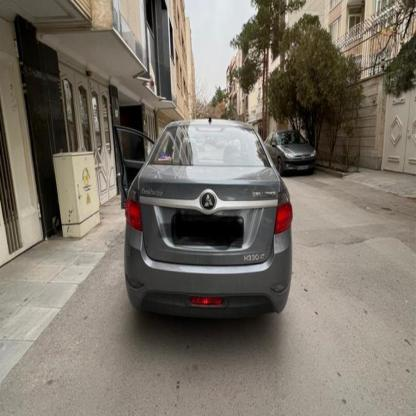Car: (118, 110, 287, 332), (267, 121, 317, 181)
